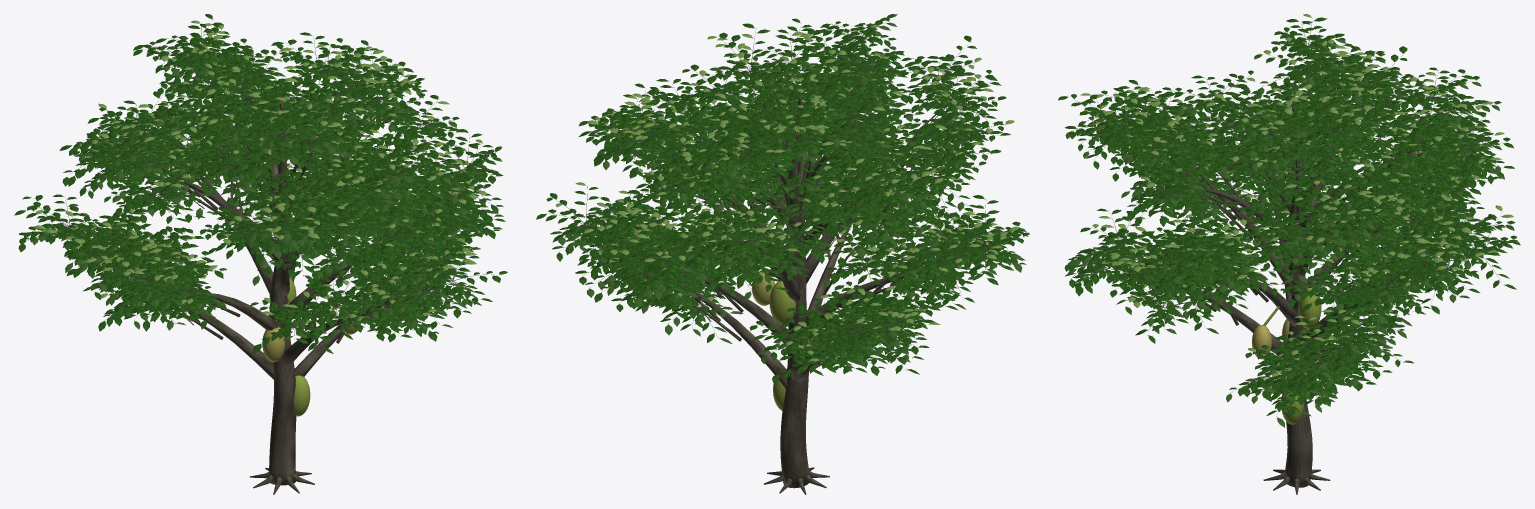
Rendered from KL_LS_Jackfruit_Tree.gltf.
The picture shows the model from 3 angles, left to right: view 1: azimuth 30°, elevation 25°; view 2: azimuth 150°, elevation 25°; view 3: azimuth 270°, elevation 25°; orthographic projection. The views are drawn at different scales.
Visible parts, largest first — view 1: TF3_KL_LS_Jackfruit_Tree; view 2: TF3_KL_LS_Jackfruit_Tree; view 3: TF3_KL_LS_Jackfruit_Tree.
Boxes of the visible parts, x1,y1,x2,y2 form: TF3_KL_LS_Jackfruit_Tree: (14, 14, 507, 494); TF3_KL_LS_Jackfruit_Tree: (536, 14, 1029, 494); TF3_KL_LS_Jackfruit_Tree: (1058, 14, 1520, 494).
Size of the model in its own units: 9.36 by 8.41 by 8.61.
7 materials, 2 textured.
